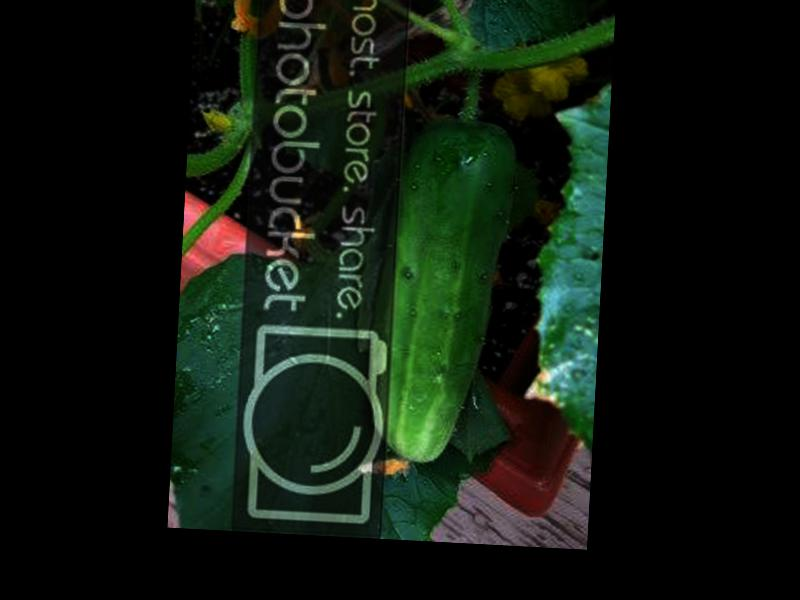Cucumber: (363, 118, 519, 470)
